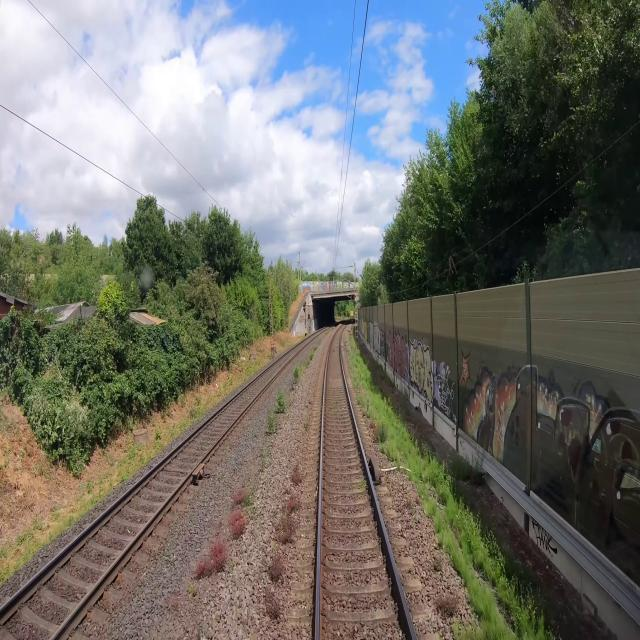Plant: (184, 482, 259, 596), (266, 460, 304, 629), (265, 390, 290, 434), (294, 342, 316, 382)
